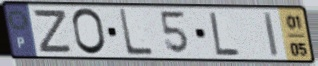5: (157, 9, 193, 57)
I: (262, 11, 281, 59)
L: (116, 7, 155, 57), (208, 11, 242, 58)
O: (70, 7, 108, 57)
Z: (33, 9, 74, 55)
